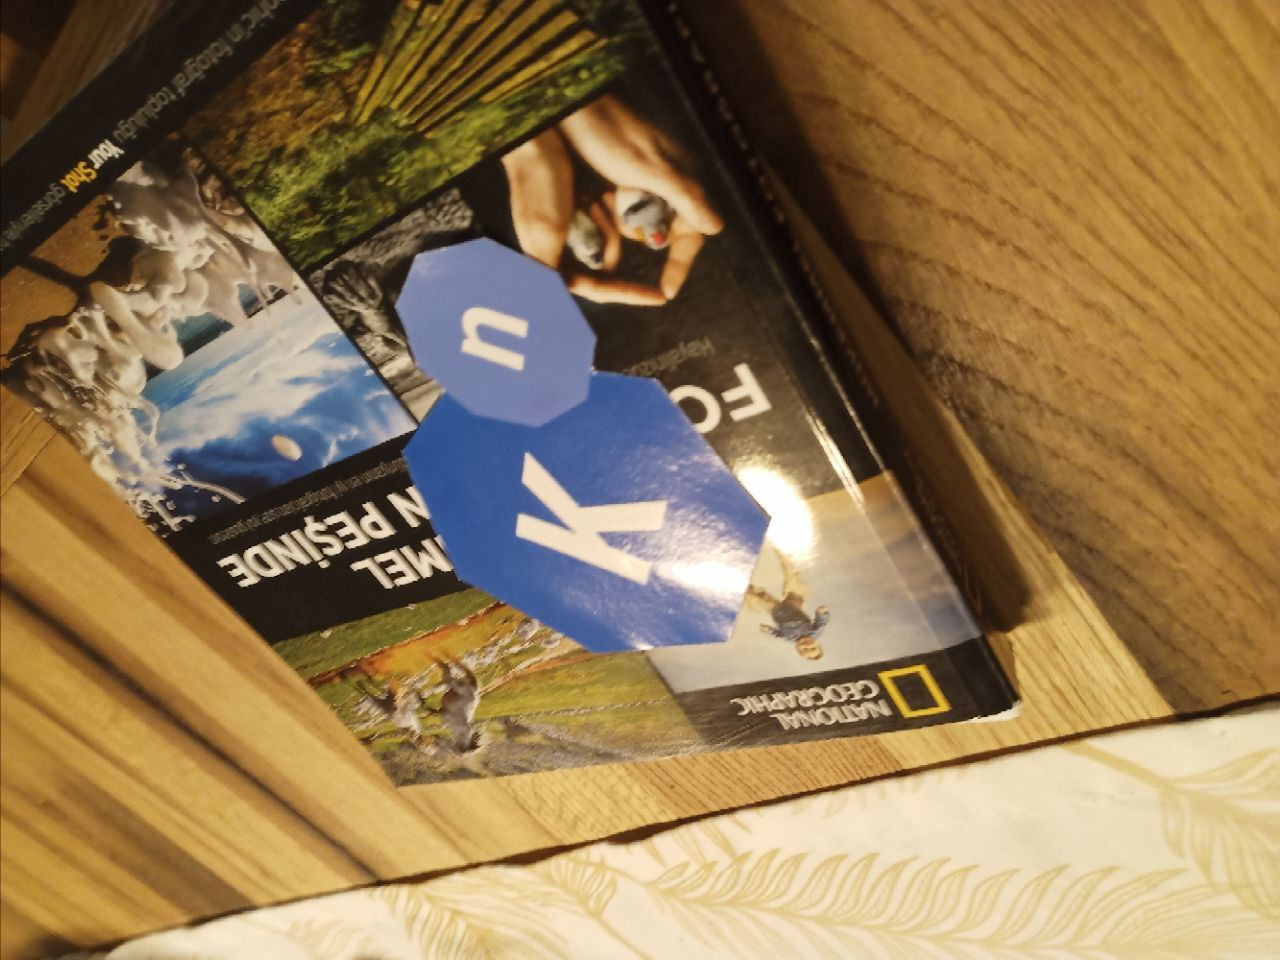knative: (393, 246, 771, 656)
